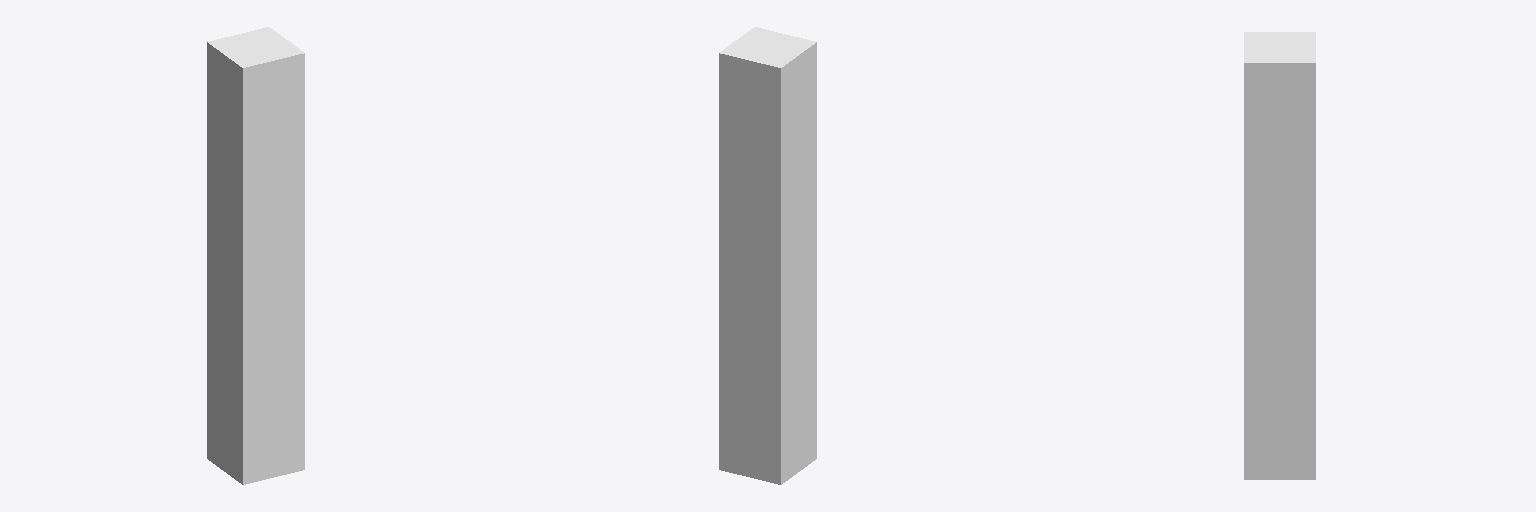
The model's file is Beam__V_0,5.obj.
3 renders of one model, left to right at view 1: azimuth 30°, elevation 25°; view 2: azimuth 150°, elevation 25°; view 3: azimuth 270°, elevation 25°, orthographic.
Visible parts, largest first — view 1: Beam__V_0,5_-2; view 2: Beam__V_0,5_-2; view 3: Beam__V_0,5_-2.
Boxes of the visible parts, x1,y1,x2,y2 form: Beam__V_0,5_-2: [207, 27, 304, 484]; Beam__V_0,5_-2: [719, 27, 816, 484]; Beam__V_0,5_-2: [1244, 32, 1315, 479].
Bounding box in the file's own units: 0.1562 × 1 × 0.1562.